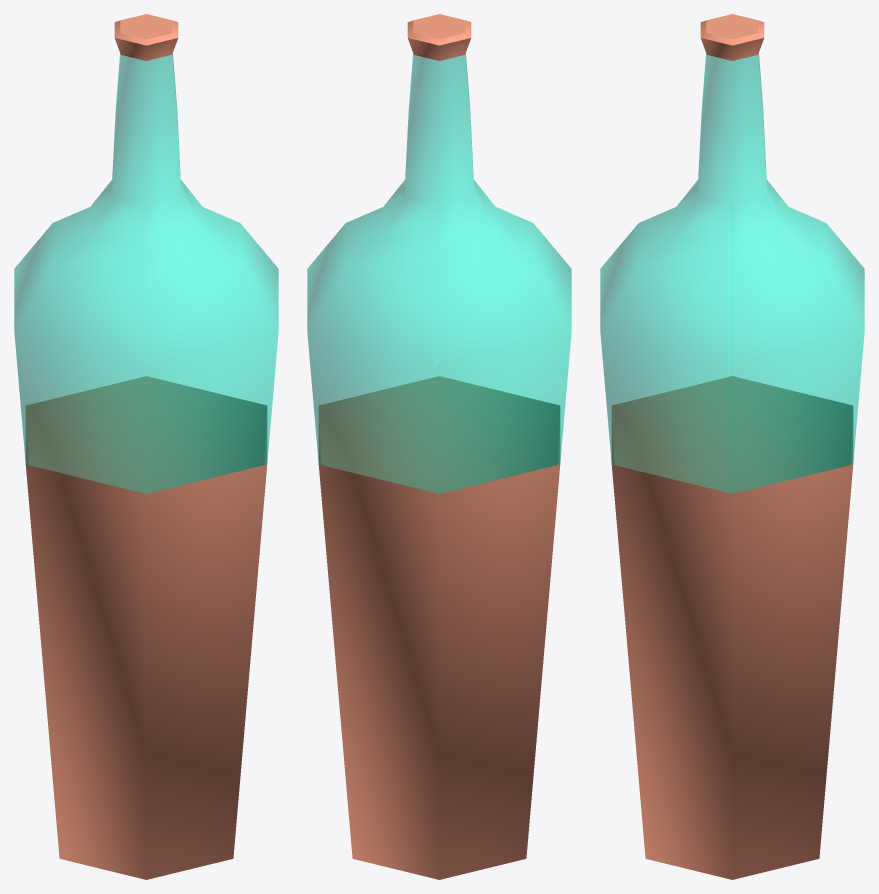
File: Bottle_02.glb
3 renders of one model, left to right at view 1: azimuth 30°, elevation 25°; view 2: azimuth 150°, elevation 25°; view 3: azimuth 270°, elevation 25°, orthographic.
Parts seen in each view (by area): view 1: Bottle02; view 2: Bottle02; view 3: Bottle02.
Part boxes in pixels (x1,y1,x2,y2): Bottle02: (14,14,278,879); Bottle02: (307,14,571,879); Bottle02: (600,14,864,879).
Bounding box in the file's own units: 0.1195 × 0.3506 × 0.1035.
Materials: 2 (2 with a texture image).
